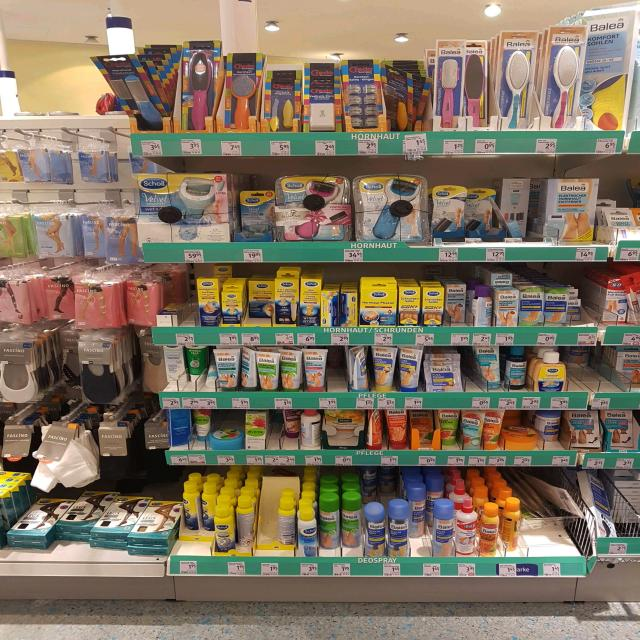empty_space: (536, 516, 572, 558), (171, 281, 197, 319), (575, 357, 597, 391), (605, 355, 627, 389), (582, 277, 598, 323), (332, 358, 346, 390)
